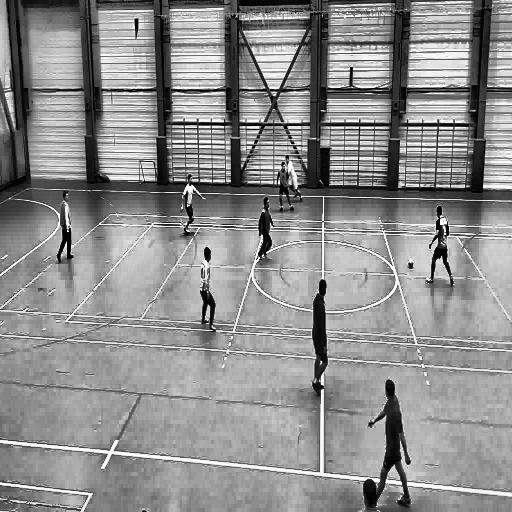ball: (407, 257, 415, 271)
player: (366, 372, 411, 510), (425, 204, 455, 290), (310, 278, 329, 400), (180, 173, 208, 236), (198, 246, 217, 334), (55, 185, 76, 264), (258, 195, 274, 264), (284, 155, 305, 202), (276, 162, 294, 215)
